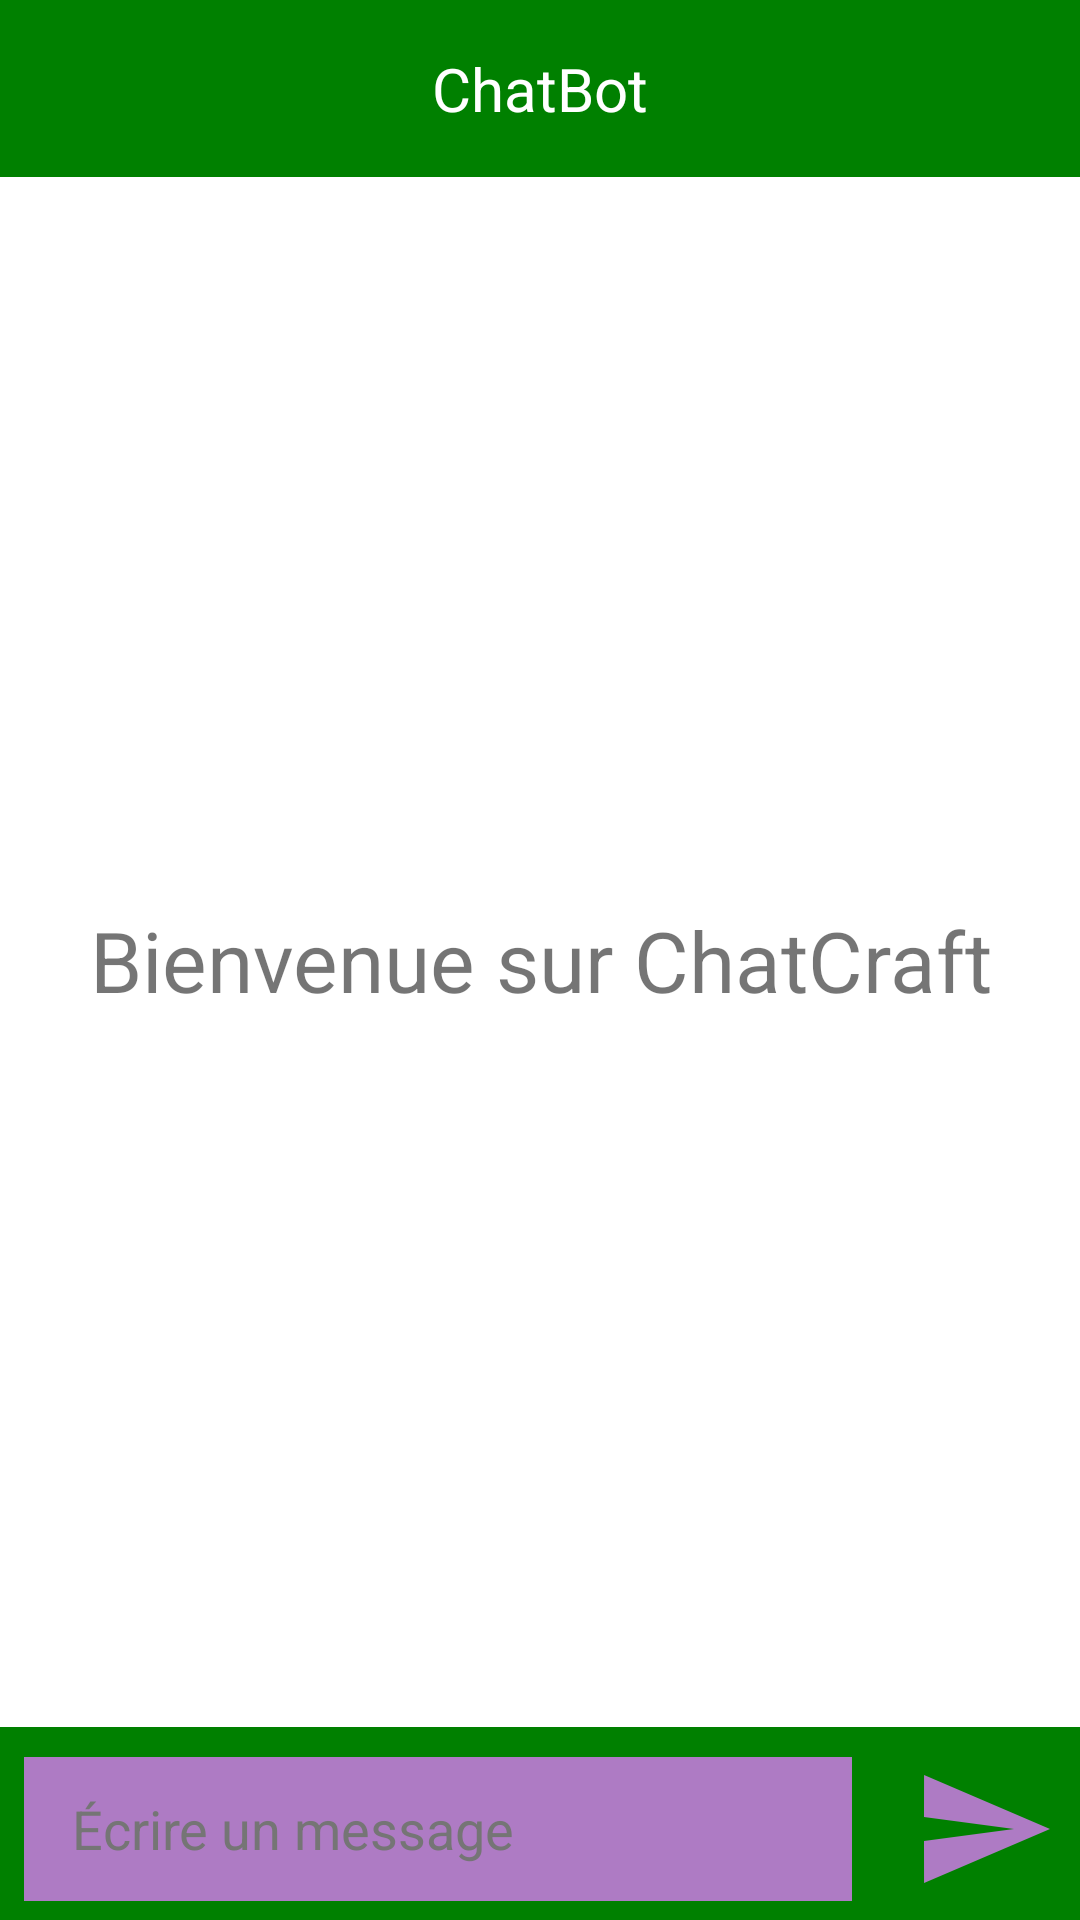

Icon bounding boxes for this 1080 x 1920 phone screenshot, format (x1, y1, x2, y2):
send: (924, 1775, 1050, 1883)
